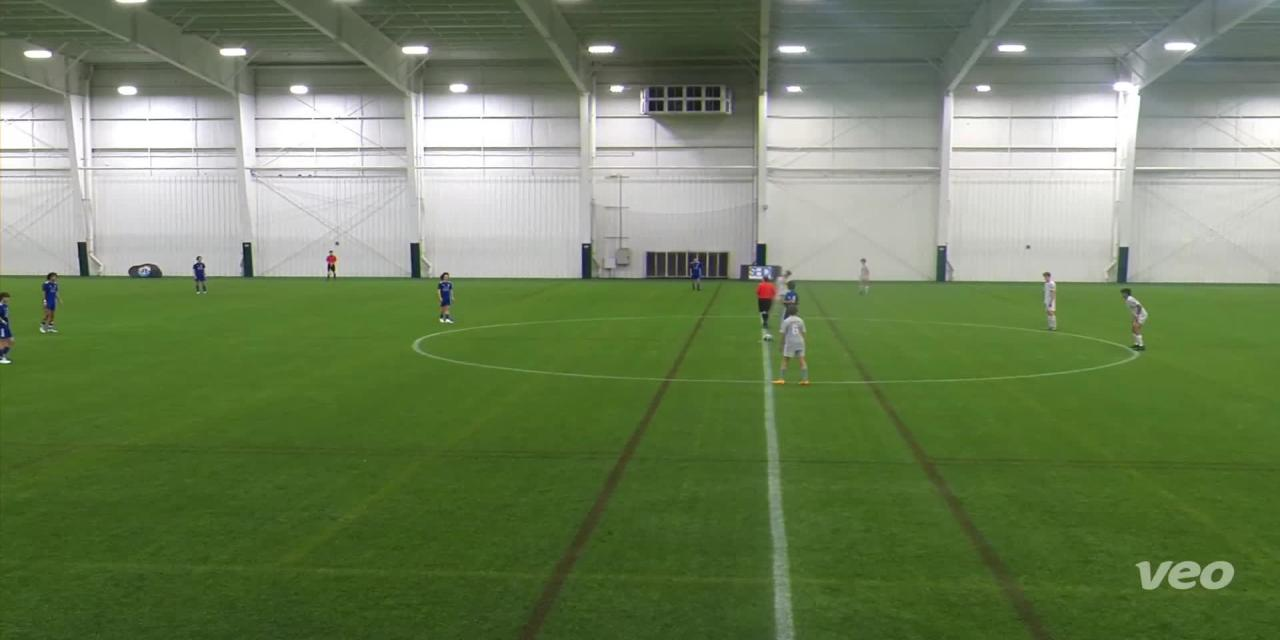sports ball: (759, 328, 779, 345)
